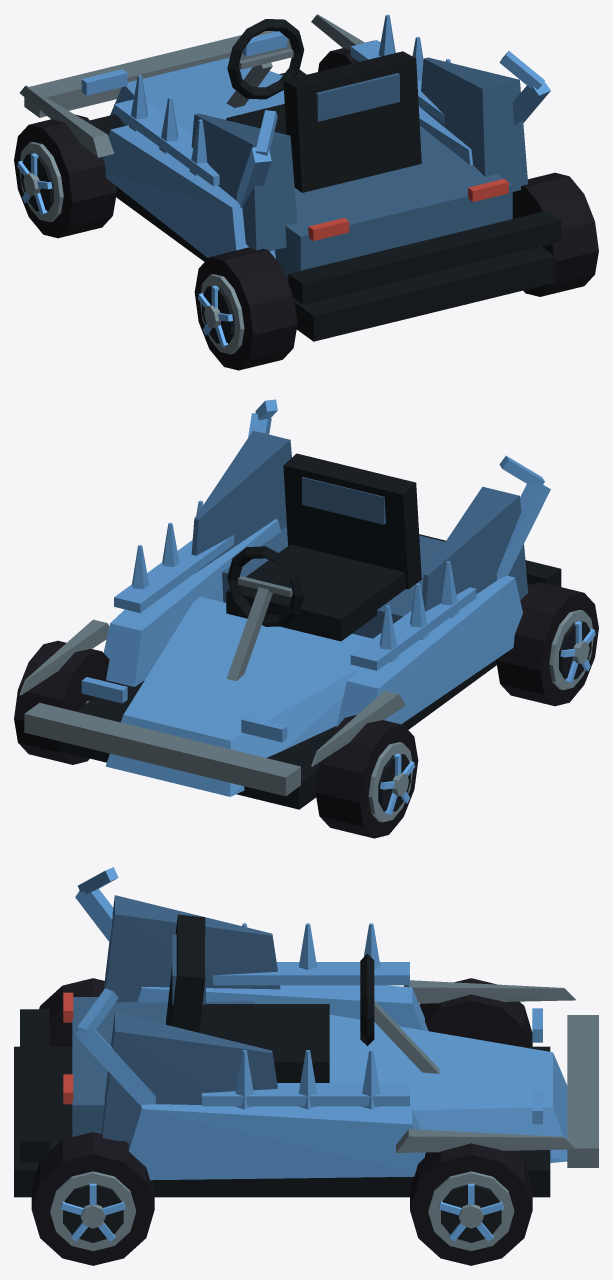
Rendered from kart.glb.
The picture shows the model from 3 angles, top to bottom: view 1: azimuth 30°, elevation 25°; view 2: azimuth 150°, elevation 25°; view 3: azimuth 270°, elevation 25°; orthographic projection. The views are drawn at different scales.
Parts seen in each view (by area): view 1: chassis, wheel-rear-left, wheel-front-left, wheel-rear-right, wheel-front-right; view 2: chassis, wheel-front-left, wheel-rear-left, wheel-front-right; view 3: chassis, wheel-rear-right, wheel-front-right, wheel-front-left, wheel-rear-left.
Boxes of the visible parts, x1,y1,x2,y2 form: chassis: (20,14,561,341); wheel-rear-left: (194,247,297,370); wheel-front-left: (14,114,116,238); wheel-rear-right: (512,172,598,296); wheel-front-right: (318,40,395,71); chassis: (19,399,561,809); wheel-front-left: (315,715,418,838); wheel-rear-left: (496,582,598,706); wheel-front-right: (14,640,114,764); chassis: (14,867,598,1197); wheel-rear-right: (31,1132,154,1265); wheel-front-right: (410,1132,532,1265); wheel-front-left: (419,978,532,1046); wheel-rear-left: (39,978,104,1046).
Bounding box in the file's own units: 2.28 × 1.38 × 2.96.
